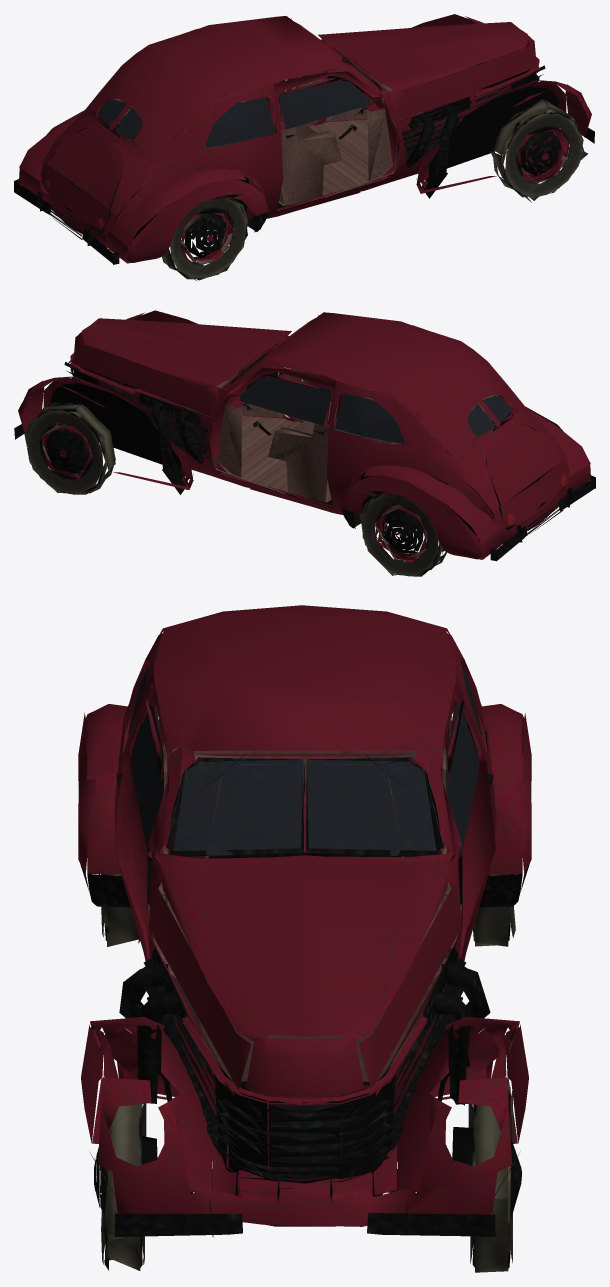
Rendered from car_cord.glb.
3 renders of one model, top to bottom at view 1: azimuth 30°, elevation 25°; view 2: azimuth 150°, elevation 25°; view 3: azimuth 270°, elevation 25°, orthographic. The views are drawn at different scales.
Visible parts, largest first — view 1: CarCord; view 2: CarCord; view 3: CarCord.
Part boxes in pixels (left/top/right/bottom): CarCord: left=14, top=14, right=594, bottom=281; CarCord: left=14, top=310, right=595, bottom=576; CarCord: left=78, top=605, right=531, bottom=1272.
Size of the model in its own units: 4.88 by 1.76 by 1.97.
Materials: 1 (1 with a texture image).
